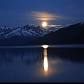moon: (40, 21, 48, 28)
